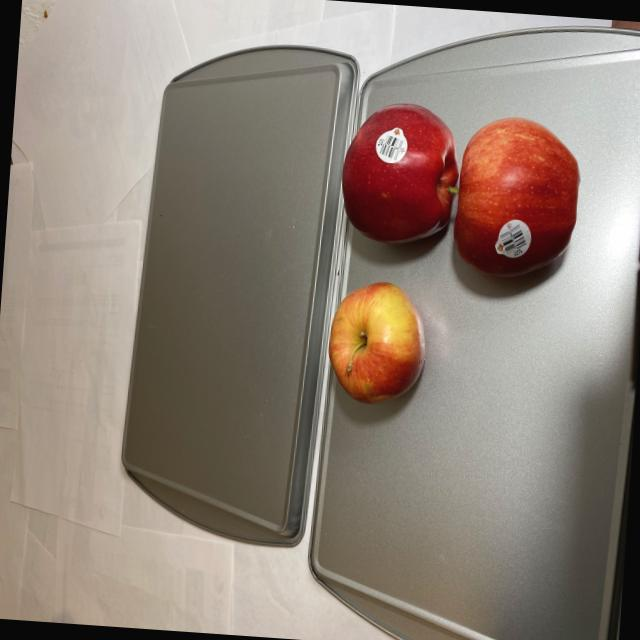apple: (324, 98, 585, 422)
